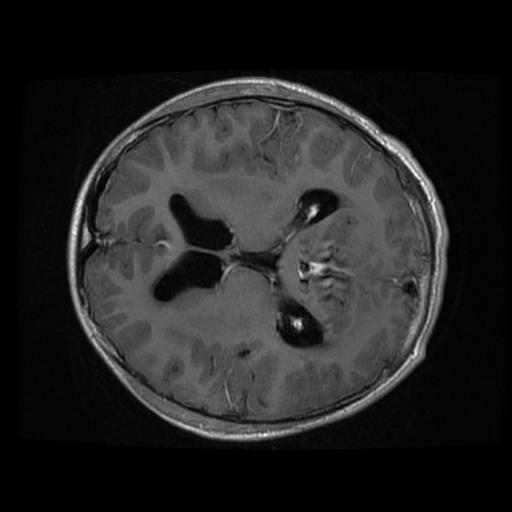glioma: (295, 231, 351, 307)
